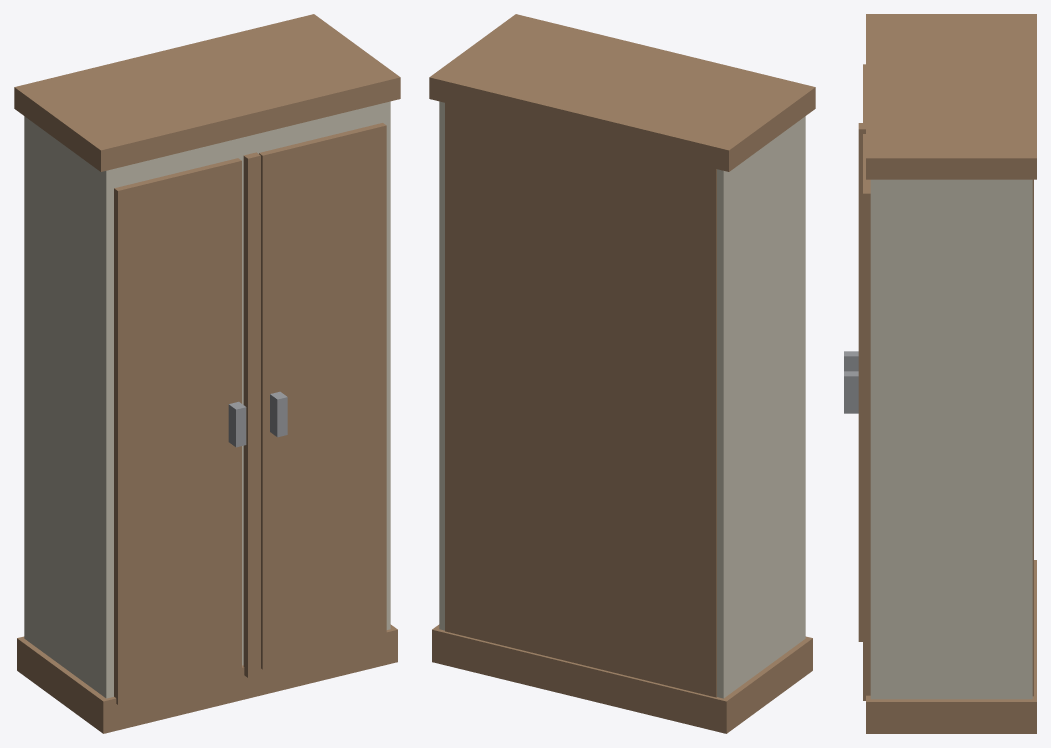
The model's file is wardrobe.glb.
3 renders of one model, left to right at view 1: azimuth 30°, elevation 25°; view 2: azimuth 150°, elevation 25°; view 3: azimuth 270°, elevation 25°, orthographic.
Visible parts, largest first — view 1: Door_L, Door_R, Cabinet, Crown, Plinth, Stile, Handle_L, Handle_R; view 2: Back, Cabinet, Crown, Plinth; view 3: Cabinet, Crown, Plinth, Door_R, Stile, Back, Handle_R.
Boxes of the visible parts, <box> form: Door_L: <box>114,158,241,704</box>; Door_R: <box>259,123,386,669</box>; Cabinet: <box>24,101,390,698</box>; Crown: <box>14,14,400,171</box>; Plinth: <box>17,624,397,733</box>; Stile: <box>243,152,260,677</box>; Handle_L: <box>228,401,246,447</box>; Handle_R: <box>270,391,287,437</box>; Back: <box>445,103,716,697</box>; Cabinet: <box>439,101,805,698</box>; Crown: <box>429,14,815,171</box>; Plinth: <box>432,624,812,733</box>; Cabinet: <box>870,179,1032,699</box>; Crown: <box>866,14,1036,179</box>; Plinth: <box>866,560,1036,733</box>; Door_R: <box>863,134,870,700</box>; Stile: <box>858,123,865,641</box>; Back: <box>1032,179,1033,696</box>; Handle_R: <box>844,371,858,413</box>.
Size of the model in its own units: 1.16 by 2.16 by 0.655.
